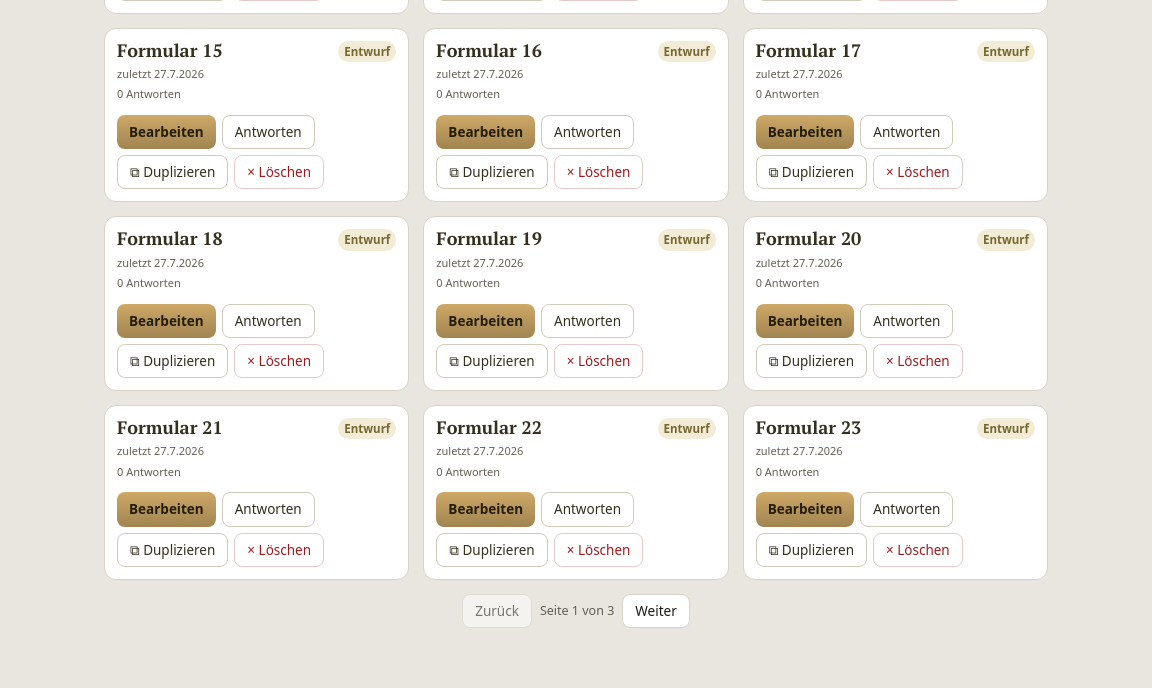
DashboardView › page, search and counter › walks back with „Zurück", and the first page has no way further back
(page scrolled)
Expected: the text "Seite 1 von 3" is shown, [540,602,614,620]
Expected: the button with aria-label "Vorherige Seite der Formularliste" is disabled, [462,594,532,628]
Click the button with aria-label "Nächste Seite der Formularliste". click: (656, 611)
box: [622,594,690,628]
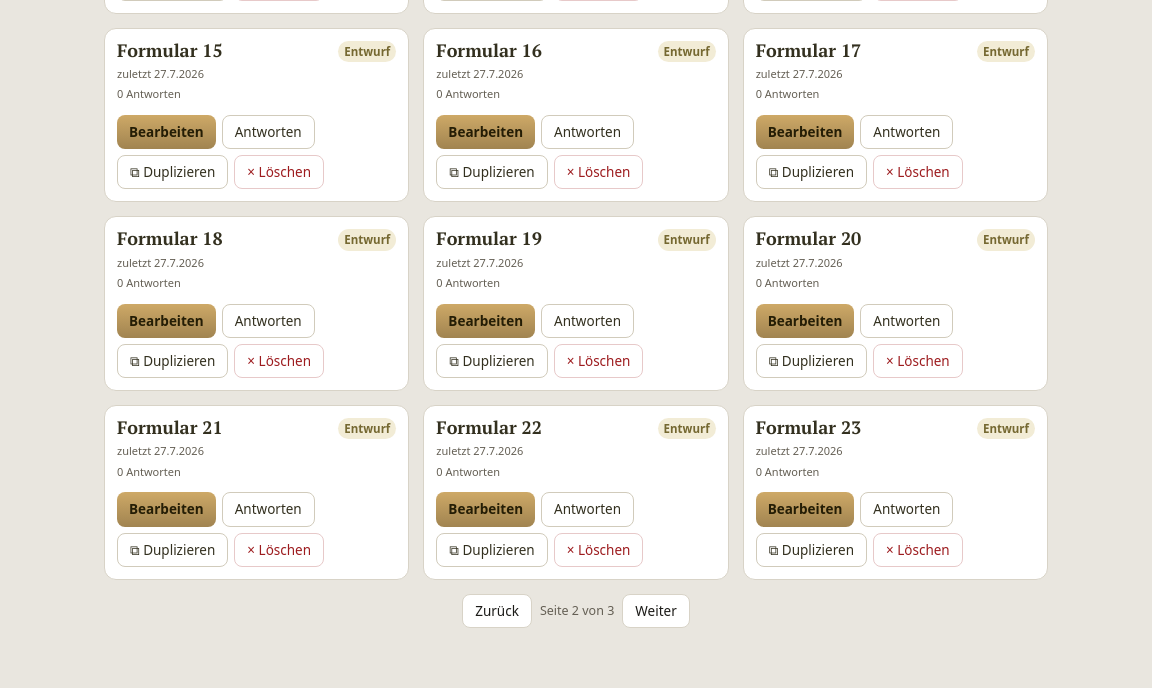
Expected: the text "Seite 2 von 3" is shown, [540,602,614,620]
Click the button with aria-label "Vorherige Seite der Formularliste". click: (497, 611)
box: [462,594,532,628]
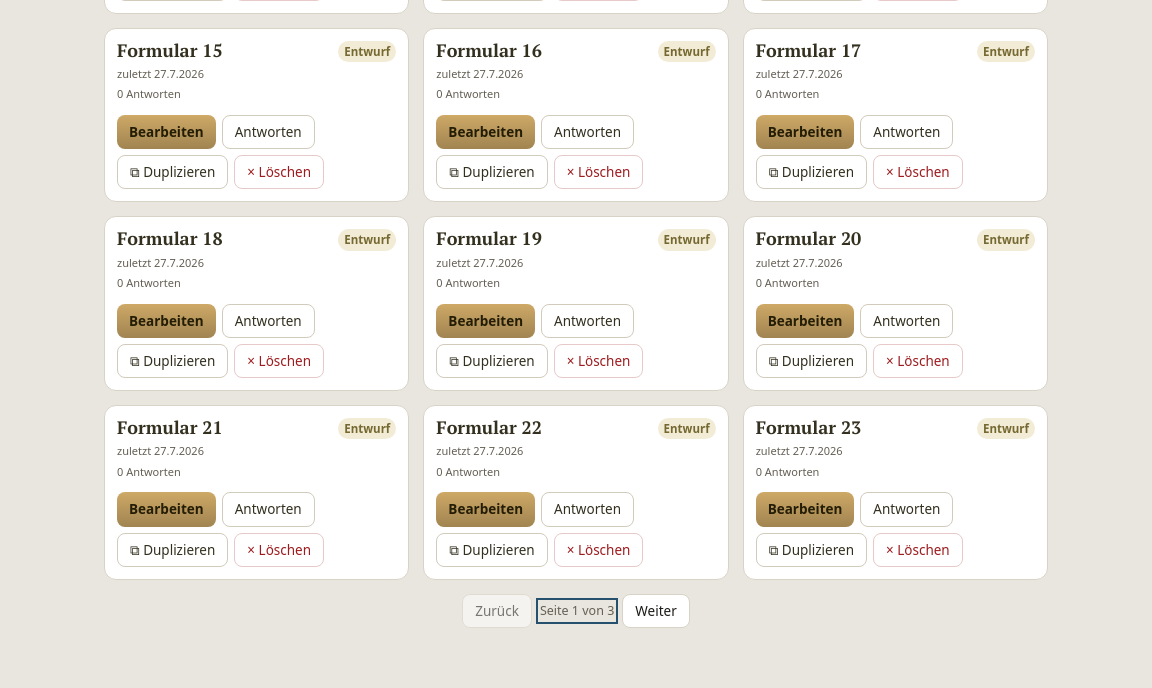
Expected: the text "Seite 1 von 3" is shown, [540,602,614,620]
